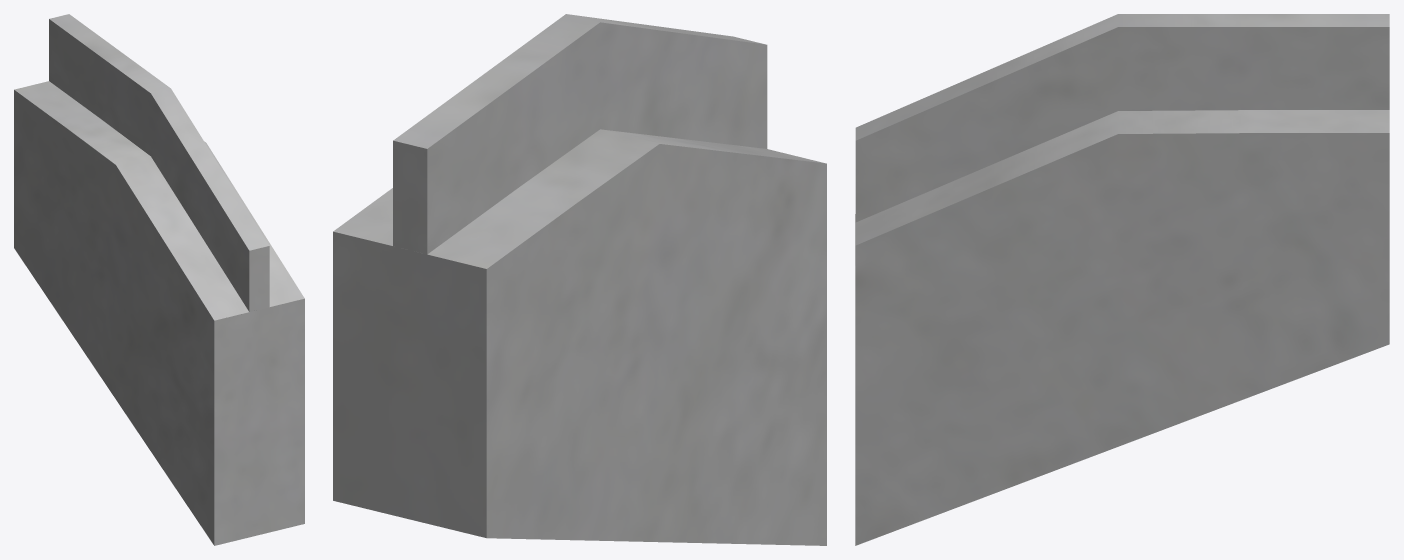
Rendered from StraightDown.fbx.
3 renders of one model, left to right at view 1: azimuth 30°, elevation 25°; view 2: azimuth 150°, elevation 25°; view 3: azimuth 270°, elevation 25°, orthographic. The views are drawn at different scales.
Visible parts, largest first — view 1: StairConcreteStraightDown; view 2: StairConcreteStraightDown; view 3: StairConcreteStraightDown.
Boxes of the visible parts, x1,y1,x2,y2 form: StairConcreteStraightDown: [14, 14, 304, 545]; StairConcreteStraightDown: [333, 14, 826, 545]; StairConcreteStraightDown: [855, 14, 1389, 545].
Size of what is drawn, in the model's own units: 37.43 by 147 by 143.
